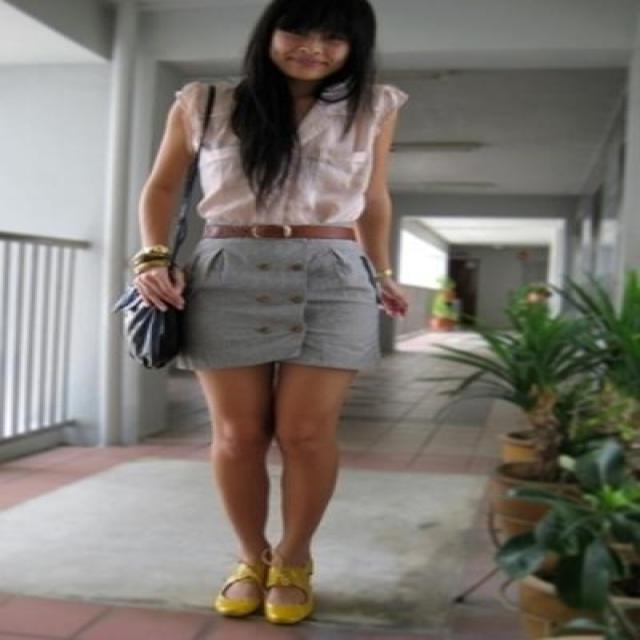bag: (107, 287, 195, 367)
shirt: (166, 83, 406, 233)
shoe: (222, 556, 325, 623)
skirt: (141, 218, 405, 380)
